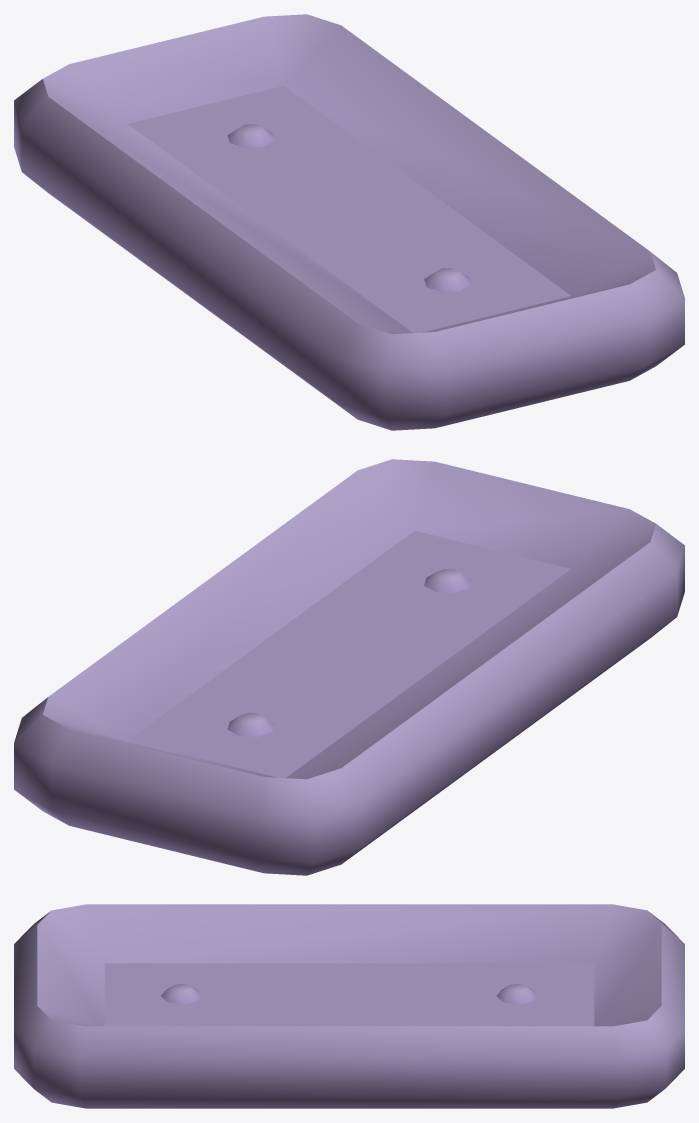
Rendered from cushion-indent-square-rounded-wide_0.glb.
3 renders of one model, top to bottom at view 1: azimuth 30°, elevation 25°; view 2: azimuth 150°, elevation 25°; view 3: azimuth 270°, elevation 25°, orthographic. The views are drawn at different scales.
Parts seen in each view (by area): view 1: cushion-indent-square-rounded-wide; view 2: cushion-indent-square-rounded-wide; view 3: cushion-indent-square-rounded-wide.
Part boxes in pixels (<box>): cushion-indent-square-rounded-wide: <box>14,14,684,430</box>; cushion-indent-square-rounded-wide: <box>14,459,684,875</box>; cushion-indent-square-rounded-wide: <box>14,904,684,1108</box>.
Size of the model in its own units: 0.5 by 0.1352 by 1.
